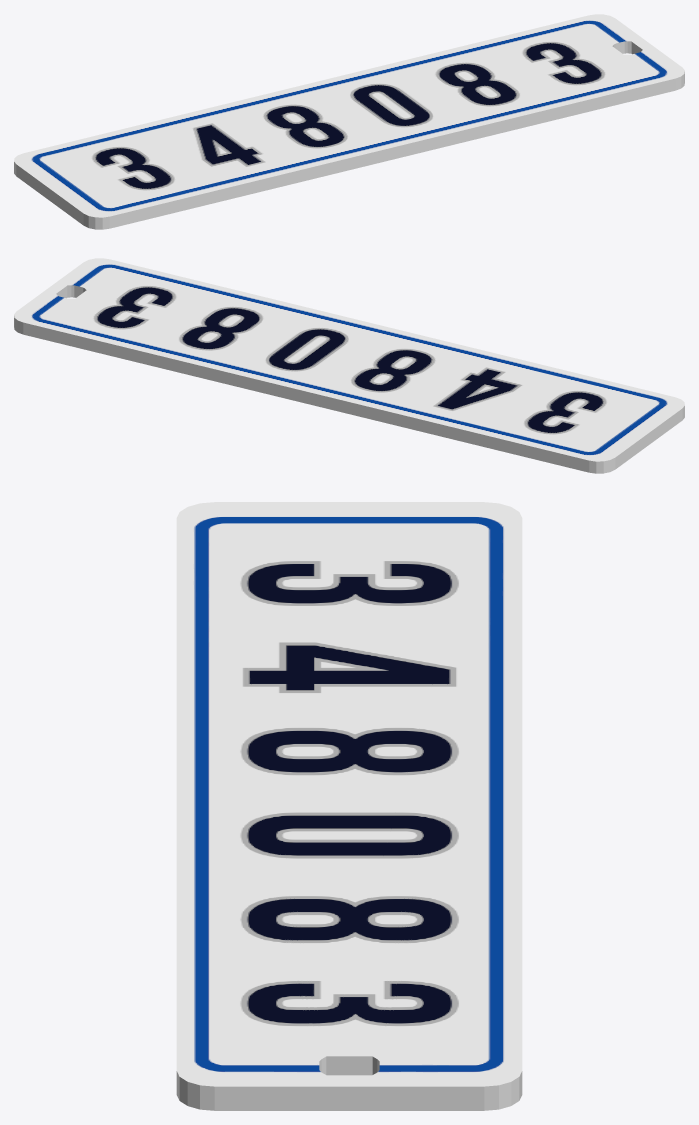
File: number plate (1).fbx
3 renders of one model, top to bottom at view 1: azimuth 30°, elevation 25°; view 2: azimuth 150°, elevation 25°; view 3: azimuth 270°, elevation 25°, orthographic. The views are drawn at different scales.
Visible parts, largest first — view 1: 348083; view 2: 348083; view 3: 348083.
Boxes of the visible parts, x1=… form: 348083: x1=14, y1=14, x2=684, y2=229; 348083: x1=14, y1=258, x2=684, y2=473; 348083: x1=176, y1=502, x2=522, y2=1110.
Bounding box in the file's own units: 400 × 7.75 × 100.
